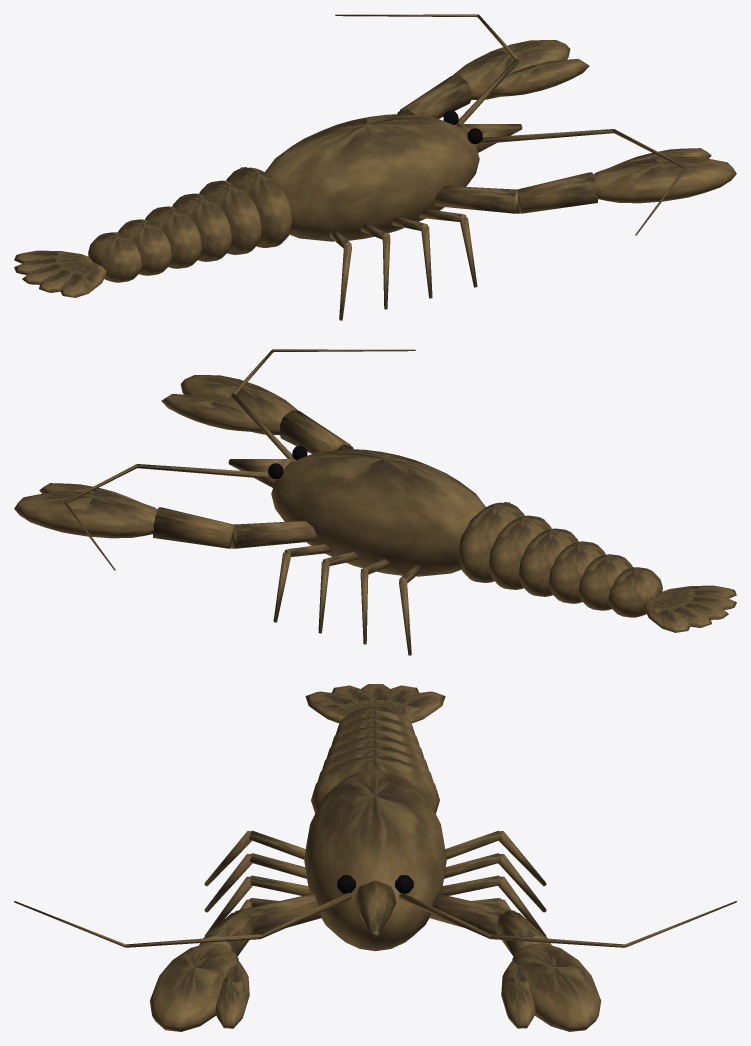
The model's file is fish_crayfish.gltf.
3 views of the same model, one above another, from view 1: azimuth 30°, elevation 25°; view 2: azimuth 150°, elevation 25°; view 3: azimuth 270°, elevation 25° (orthographic). The views are drawn at different scales.
Visible parts, largest first — view 1: fish_crayfish; view 2: fish_crayfish; view 3: fish_crayfish.
Part boxes in pixels (x1,y1,x2,y2): fish_crayfish: (14,14,736,320); fish_crayfish: (14,349,736,655); fish_crayfish: (14,684,736,1031).
Bounding box in the file's own units: 0.1951 × 0.0363 × 0.1623.
Materials: 2 (1 with a texture image).
